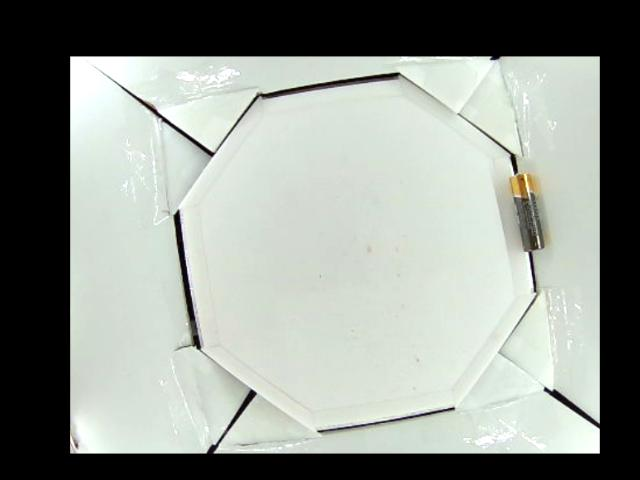Battery: (509, 171, 545, 252)
